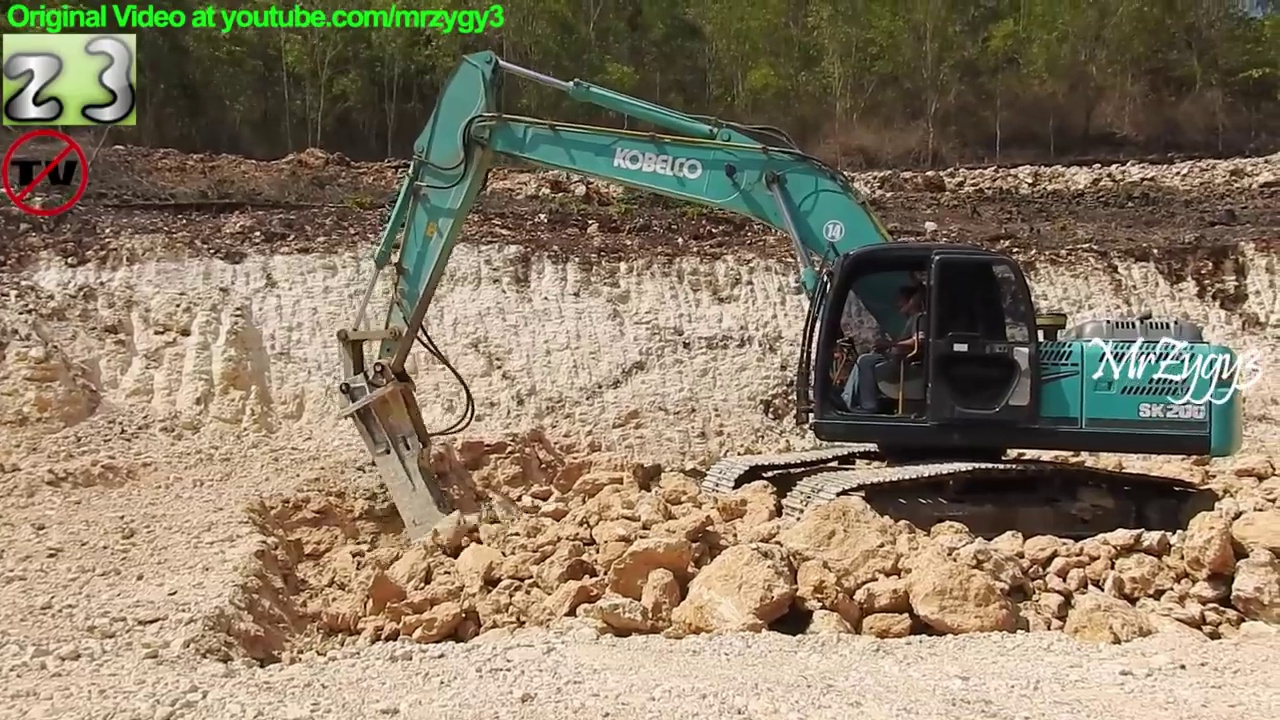excavator breaker: (331, 45, 1246, 568)
